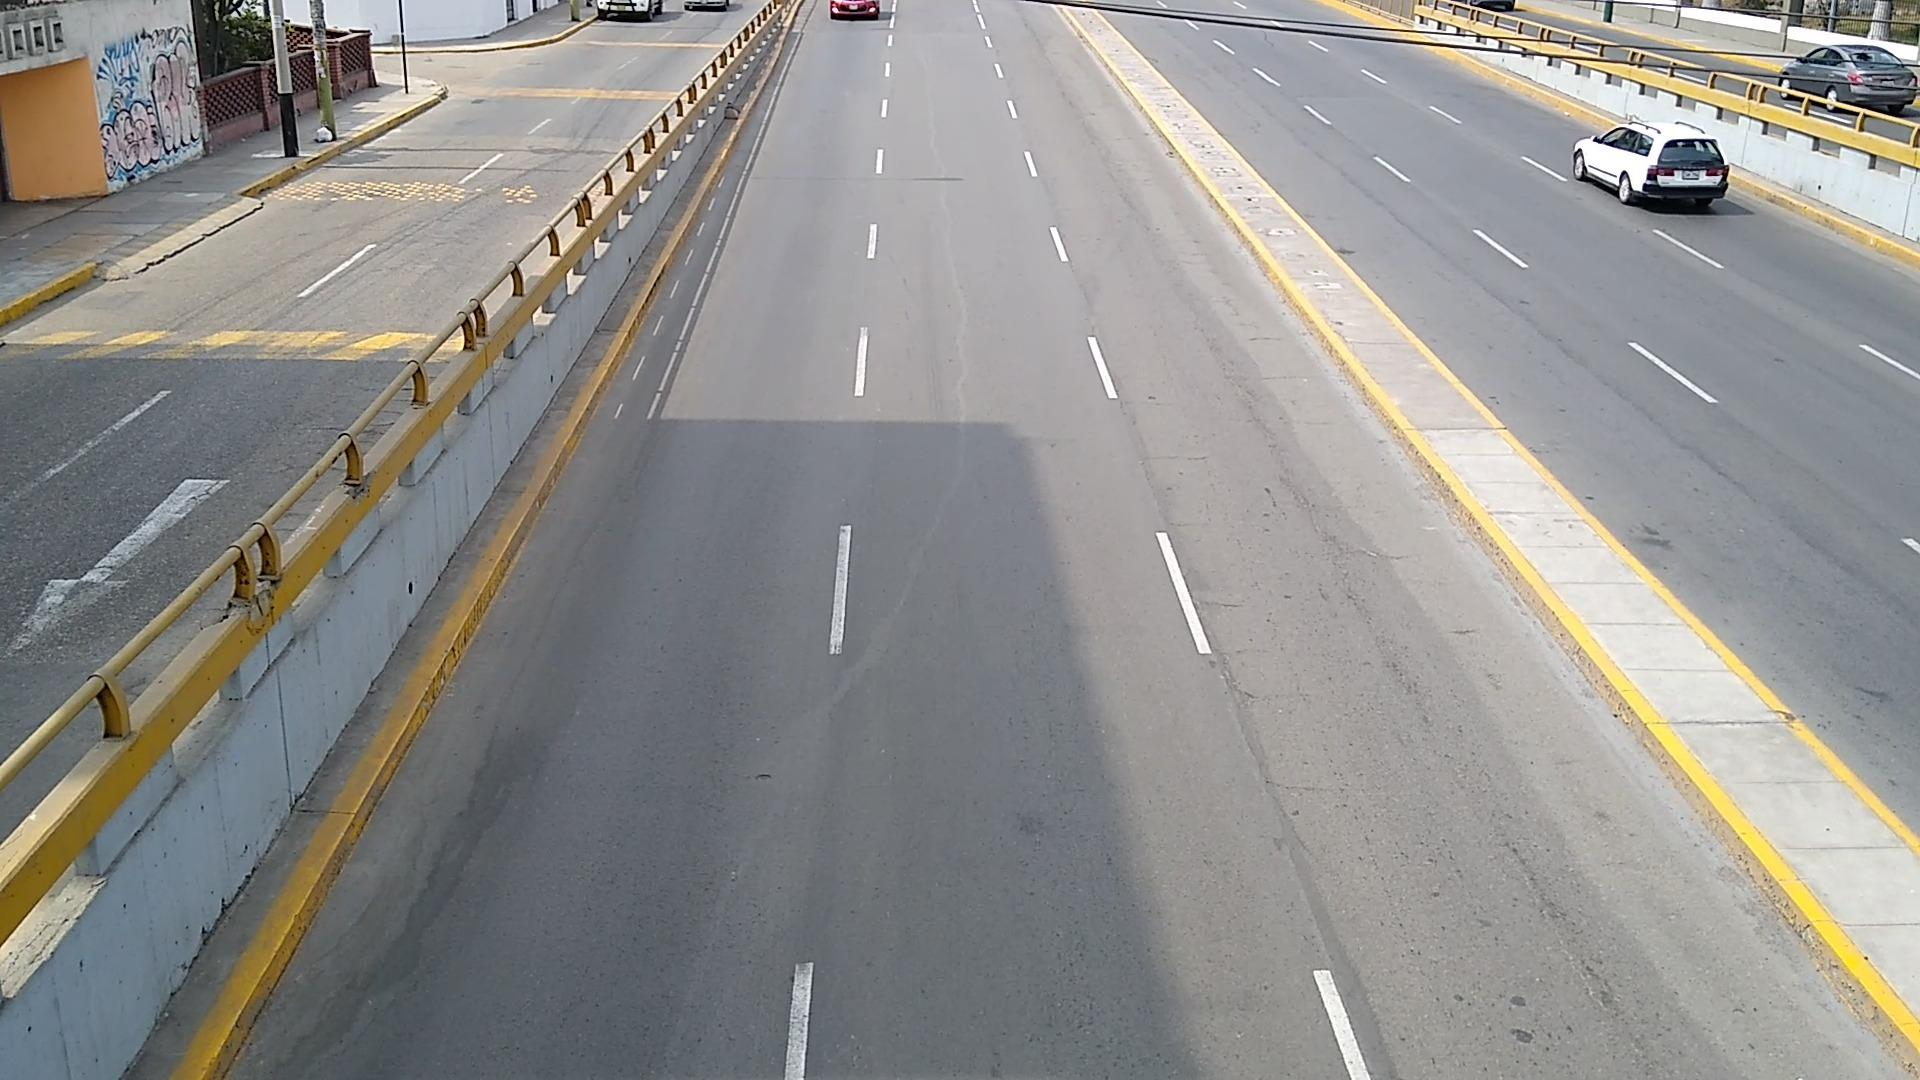car: (1572, 124, 1729, 206), (1782, 45, 1920, 112)
